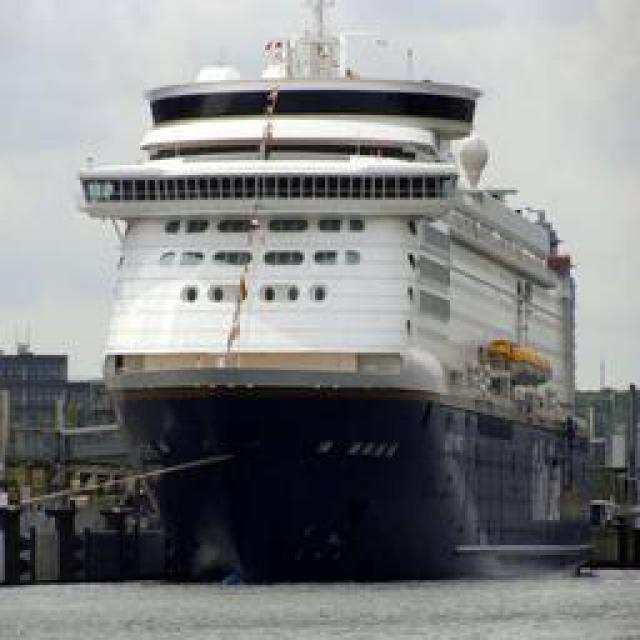Ship: (81, 51, 591, 574)
